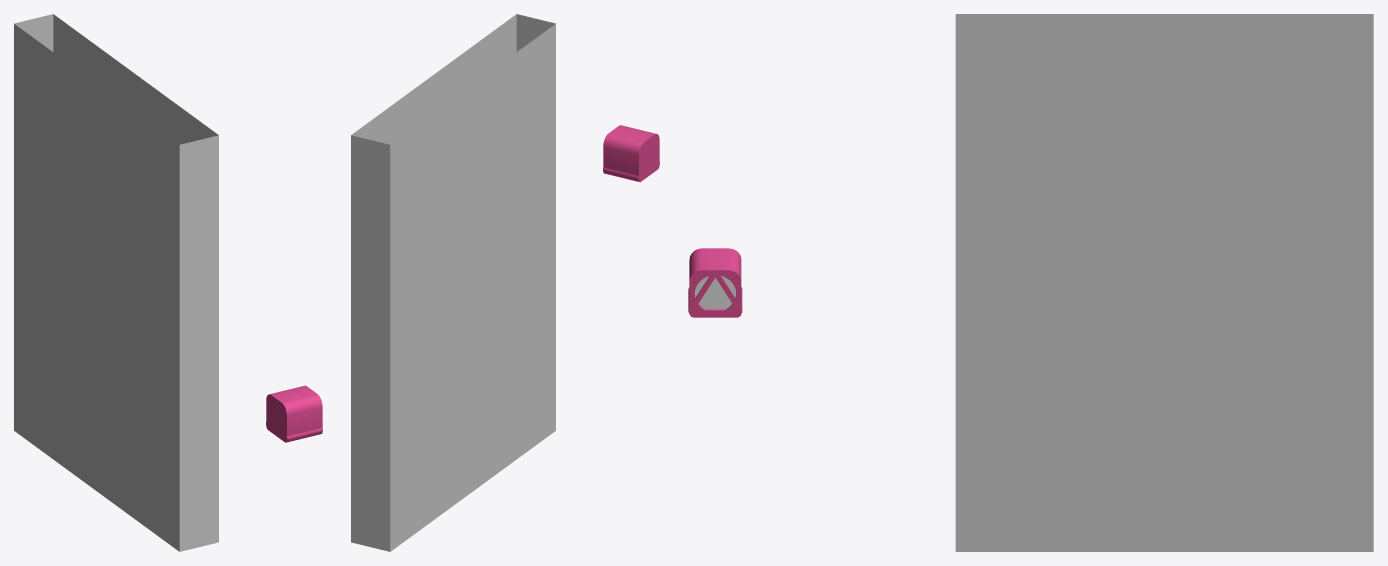
Rendered from testProject.fbx.
3 views of the same model, side by side, from view 1: azimuth 30°, elevation 25°; view 2: azimuth 150°, elevation 25°; view 3: azimuth 270°, elevation 25° (orthographic). The views are drawn at different scales.
Parts seen in each view (by area): view 1: Cube.003, Cube, Cube.002, Cylinder; view 2: Cube.003, Cube, Cube.002; view 3: Cube.003, Cube.
Part boxes in pixels (left/top/right/bottom): Cube.003: left=14, top=14, right=218, bottom=551; Cube: left=266, top=385, right=322, bottom=439; Cube.002: left=266, top=389, right=322, bottom=442; Cylinder: left=266, top=398, right=286, bottom=437; Cube.003: left=351, top=14, right=555, bottom=551; Cube: left=603, top=125, right=659, bottom=180; Cube.002: left=603, top=130, right=659, bottom=182; Cube.003: left=955, top=14, right=1373, bottom=551; Cube: left=689, top=248, right=741, bottom=317.
Bounding box in the file's own units: 220 × 2178 × 2632.
